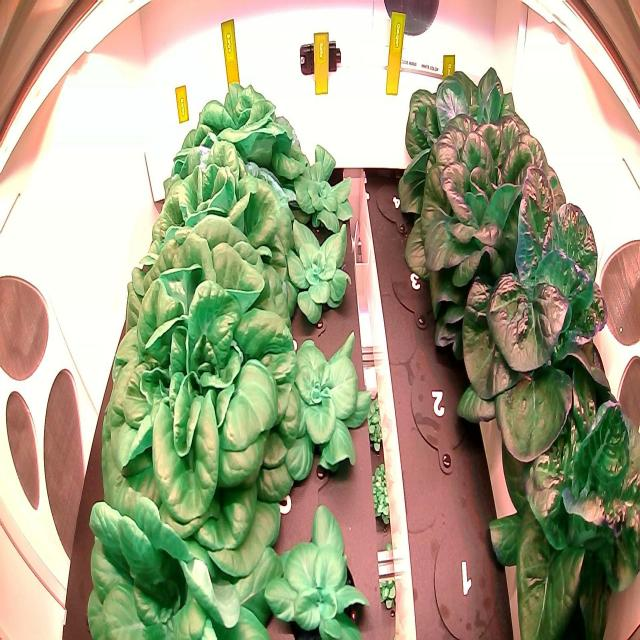Ready: (85, 222, 301, 556), (450, 158, 630, 474), (481, 355, 640, 640), (83, 432, 279, 635), (399, 101, 579, 313), (131, 126, 296, 327), (392, 51, 550, 230), (162, 79, 307, 219)
empty_pod: (425, 511, 505, 640), (404, 360, 474, 474), (385, 244, 452, 333), (372, 168, 429, 239)
young: (271, 318, 378, 490), (259, 489, 372, 640), (284, 210, 363, 337), (291, 135, 355, 235)
